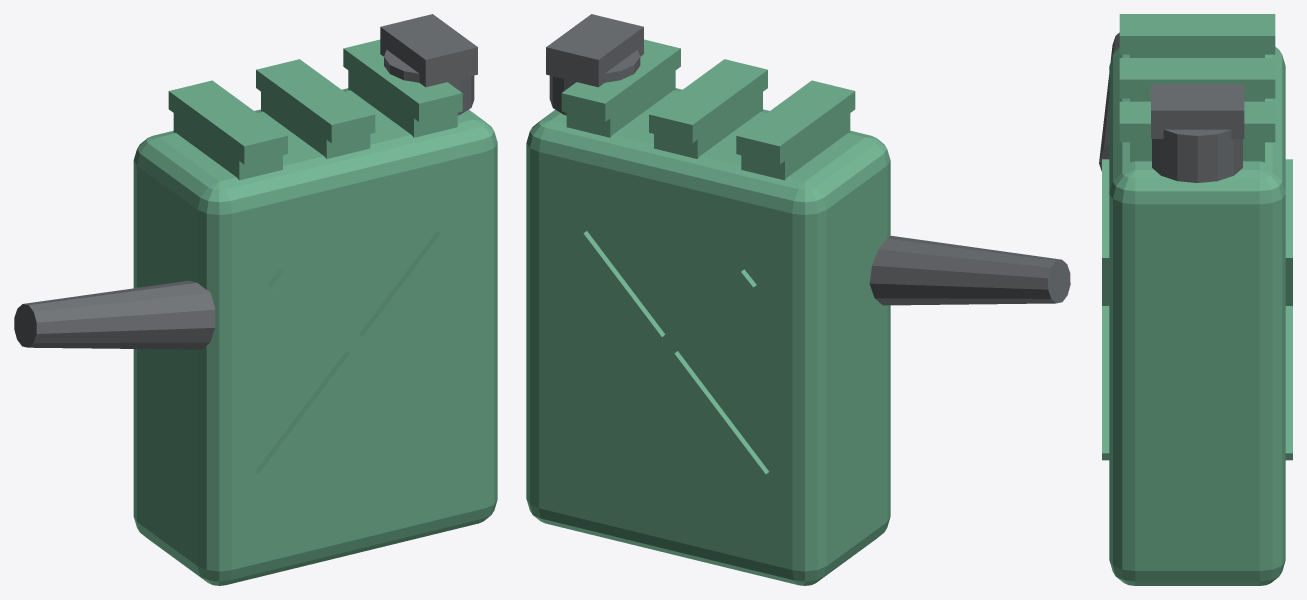
File: car-repair-garage-and-mot-workshop-car-repair-garage-a-80d09bd9__34044.glb
The picture shows the model from 3 angles, left to right: view 1: azimuth 30°, elevation 25°; view 2: azimuth 150°, elevation 25°; view 3: azimuth 270°, elevation 25°; orthographic projection. The views are drawn at different scales.
Visible parts, largest first — view 1: car-repair-garage-and-mot-workshop-jerrycan; view 2: car-repair-garage-and-mot-workshop-jerrycan; view 3: car-repair-garage-and-mot-workshop-jerrycan.
Part boxes in pixels (x1,y1,x2,y2): car-repair-garage-and-mot-workshop-jerrycan: (14, 14, 497, 585); car-repair-garage-and-mot-workshop-jerrycan: (526, 14, 1070, 585); car-repair-garage-and-mot-workshop-jerrycan: (1099, 14, 1292, 585).
Bounding box in the file's own units: 0.5458 × 0.51 × 0.187.
